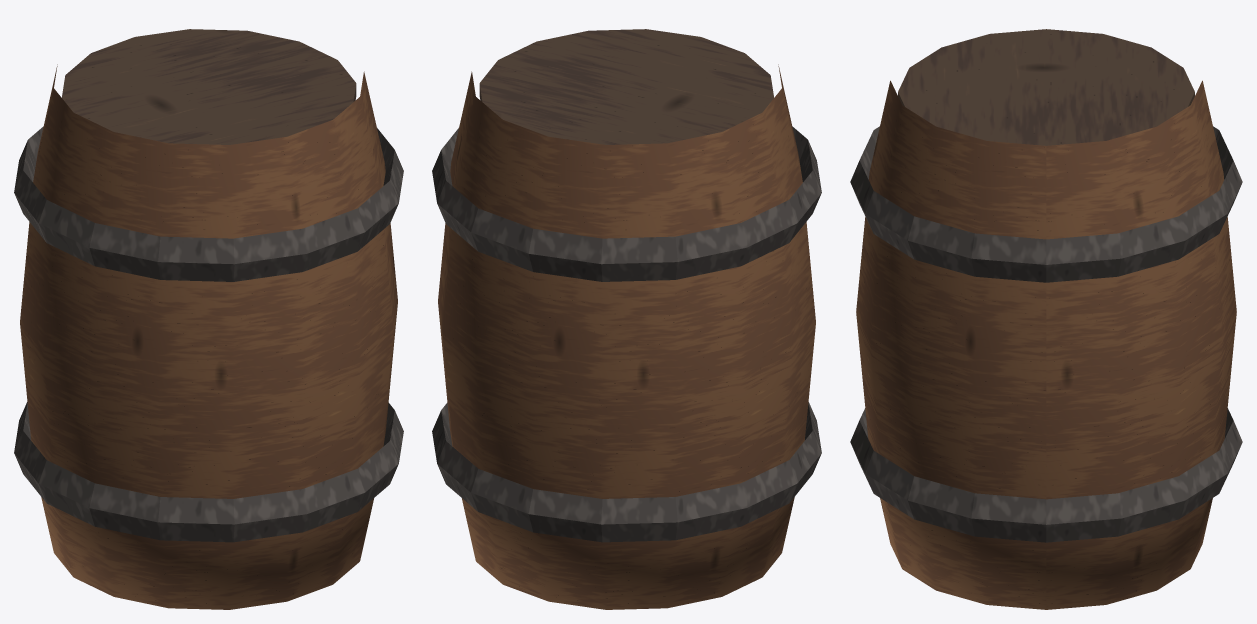
Rendered from ev_barrel.glb.
3 renders of one model, left to right at view 1: azimuth 30°, elevation 25°; view 2: azimuth 150°, elevation 25°; view 3: azimuth 270°, elevation 25°, orthographic.
Parts seen in each view (by area): view 1: ev_barrel_barrel; view 2: ev_barrel_barrel; view 3: ev_barrel_barrel.
Boxes of the visible parts, x1=… form: ev_barrel_barrel: x1=14, y1=29, x2=403, y2=609; ev_barrel_barrel: x1=432, y1=29, x2=821, y2=609; ev_barrel_barrel: x1=850, y1=29, x2=1242, y2=609.
Size of what is drawn, in the model's own units: 0.5979 by 0.78 by 0.5979.
Materials: 3 (3 with a texture image).
